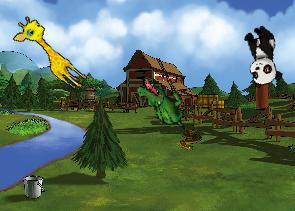crocodile: (128, 75, 197, 131)
giraffe: (8, 12, 96, 93)
panda: (239, 23, 284, 88)
